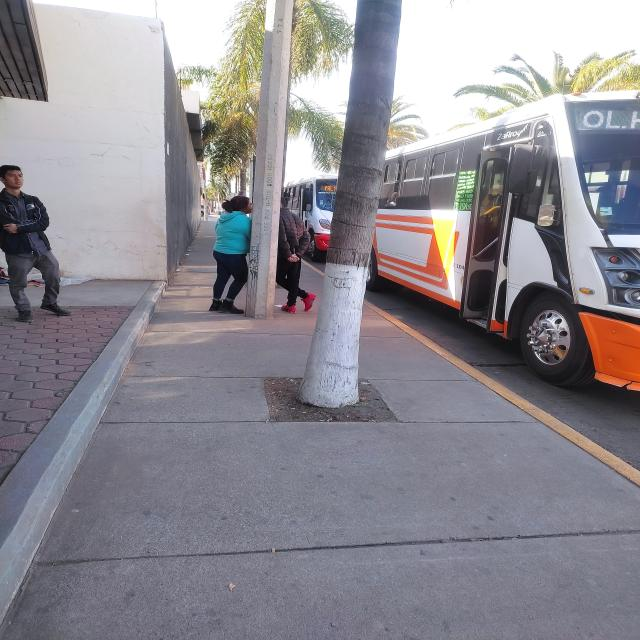3: (0, 159, 74, 324), (263, 195, 317, 323), (212, 193, 263, 314)
Autobus: (382, 88, 640, 388), (270, 168, 364, 258)
